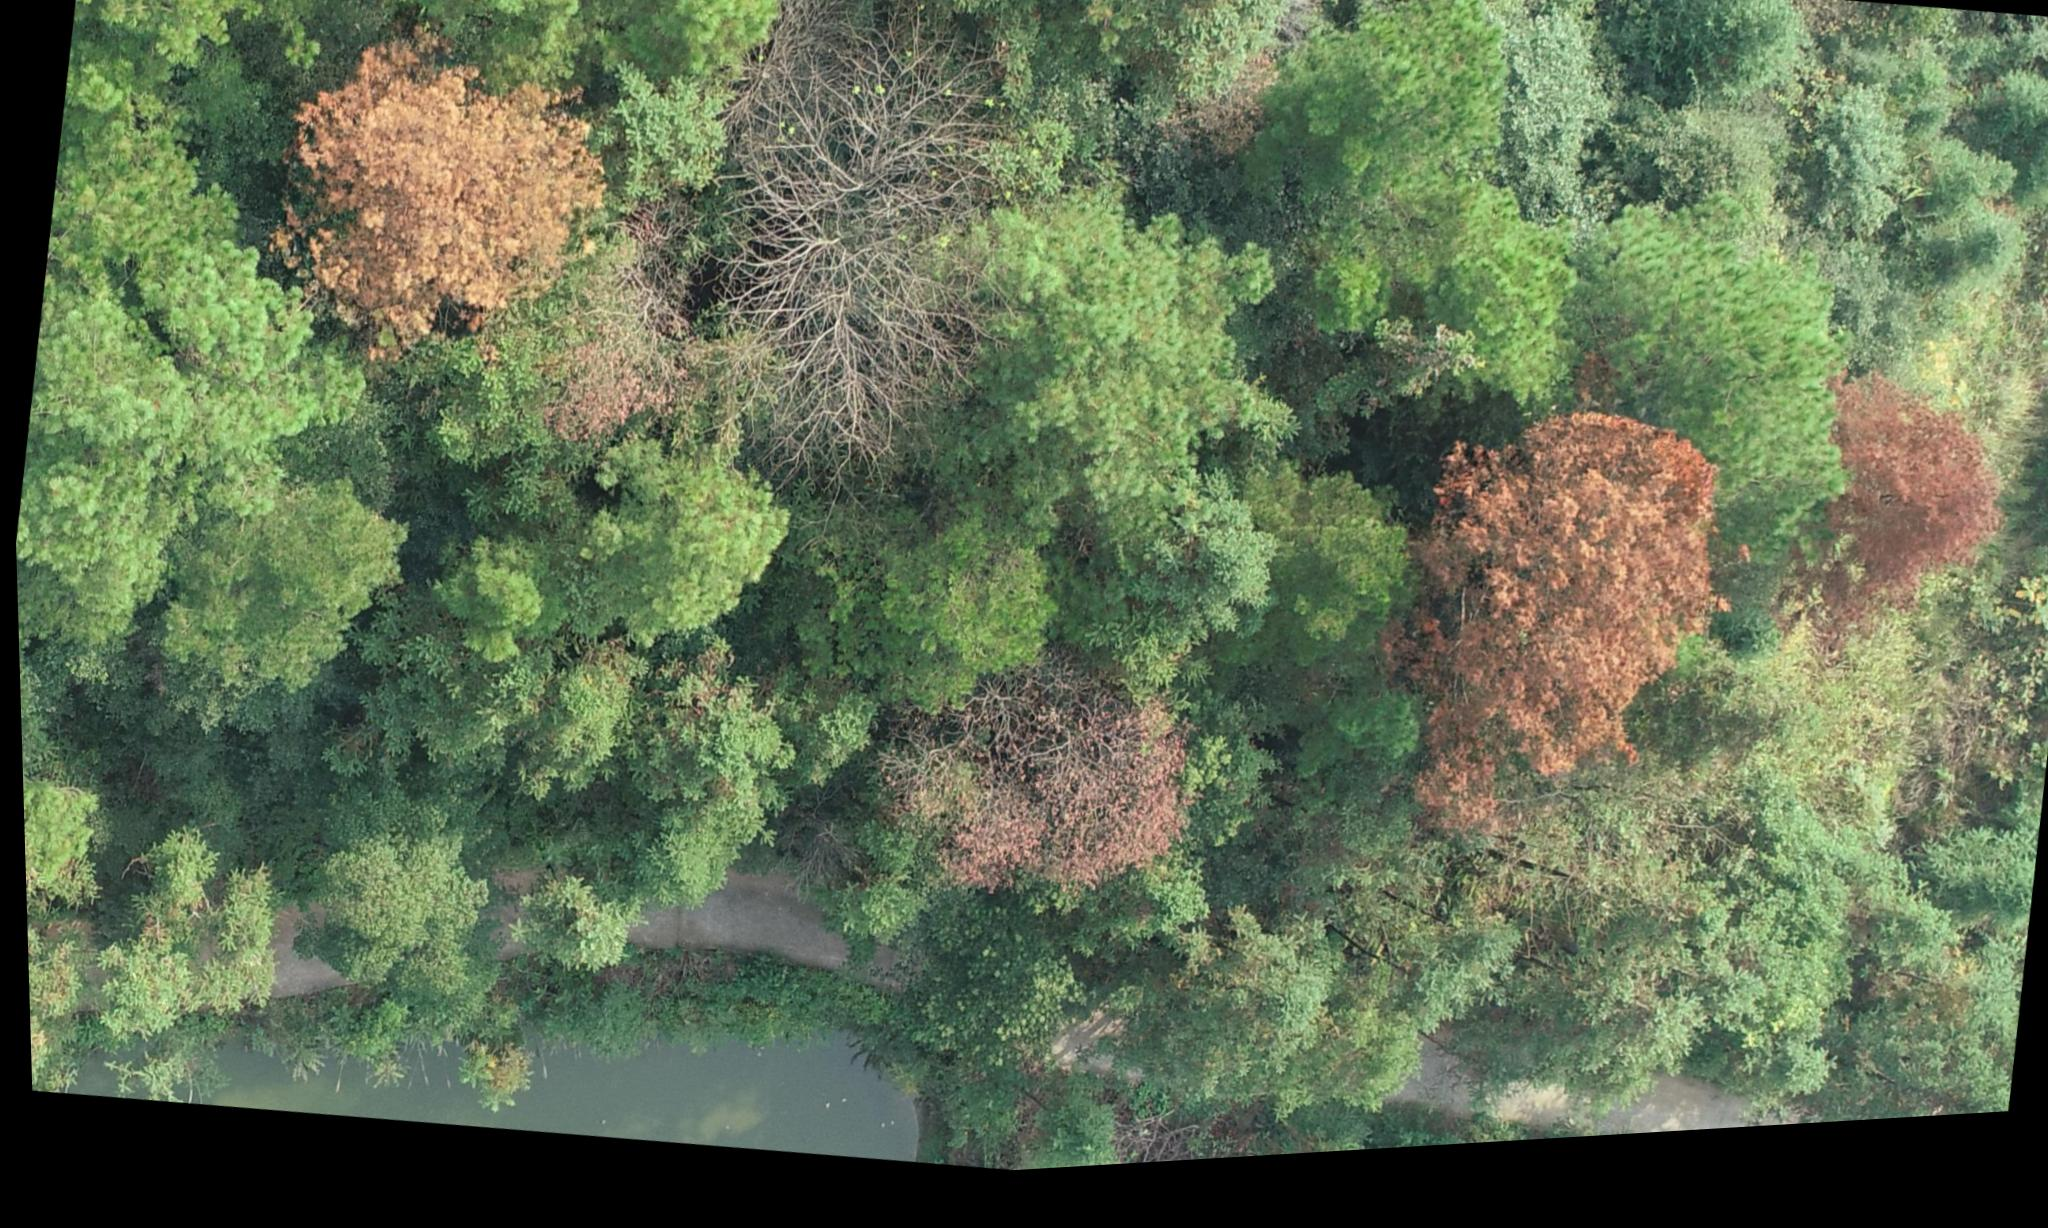dead: (678, 0, 1047, 510)
heavy: (1358, 398, 1750, 899), (260, 15, 611, 401)
